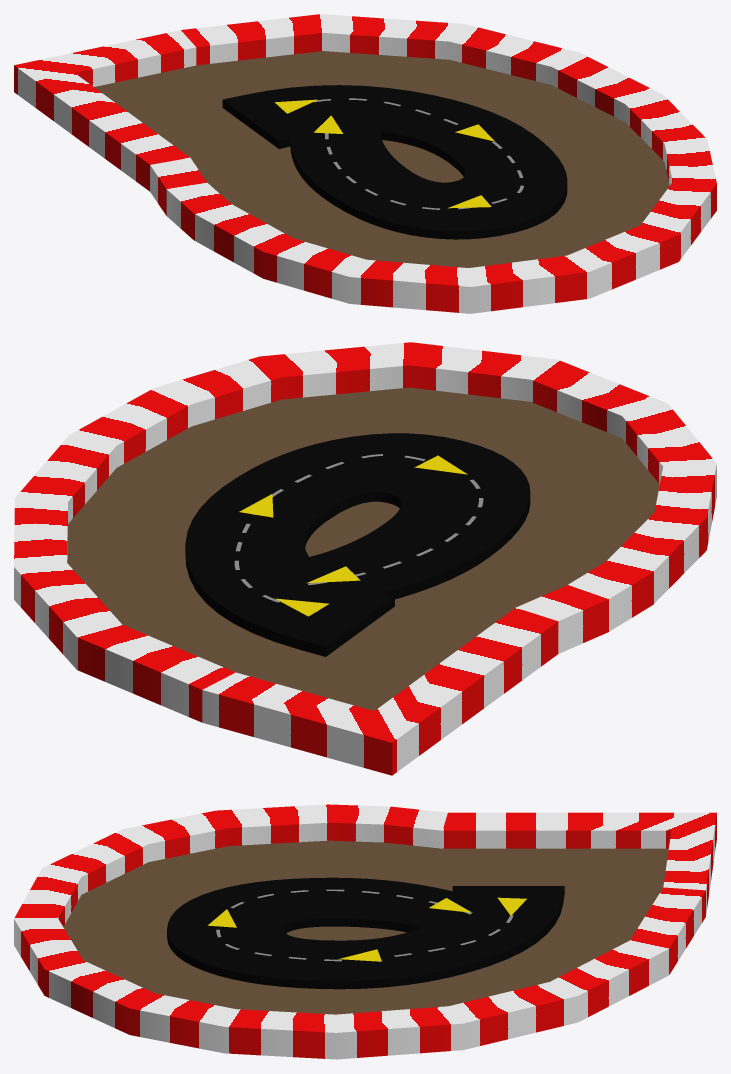
File: heh.FBX
3 renders of one model, top to bottom at view 1: azimuth 30°, elevation 25°; view 2: azimuth 150°, elevation 25°; view 3: azimuth 270°, elevation 25°, orthographic. The views are drawn at different scales.
Visible parts, largest first — view 1: ha2_coll, ha2_floor, ha2, line0; view 2: ha2_coll, ha2_floor, ha2, line0; view 3: ha2_coll, ha2_floor, ha2, line0.
Part boxes in pixels (bbox=[...]): ha2_coll: bbox=[14, 14, 716, 313]; ha2_floor: bbox=[94, 51, 669, 267]; ha2: bbox=[222, 85, 567, 239]; line0: bbox=[314, 98, 523, 209]; ha2_coll: bbox=[14, 342, 716, 775]; ha2_floor: bbox=[67, 387, 659, 710]; ha2: bbox=[185, 433, 530, 656]; line0: bbox=[234, 454, 483, 611]; ha2_coll: bbox=[14, 804, 716, 1059]; ha2_floor: bbox=[63, 840, 668, 1014]; ha2: bbox=[167, 877, 564, 989]; line0: bbox=[216, 889, 513, 961].
Bounding box in the file's own units: 604 × 32.76 × 785.
